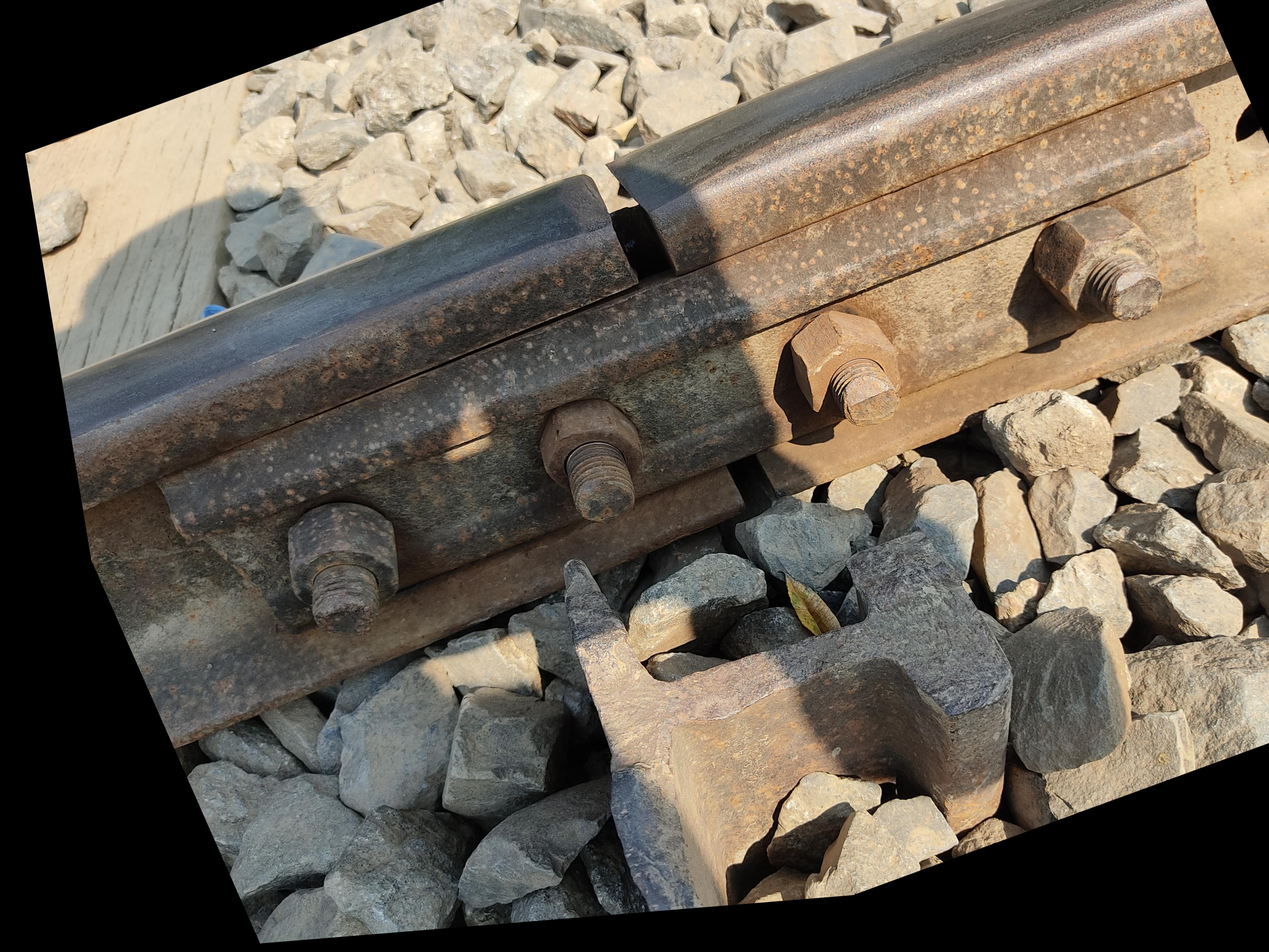person: (418, 298, 675, 524), (577, 593, 736, 742)
